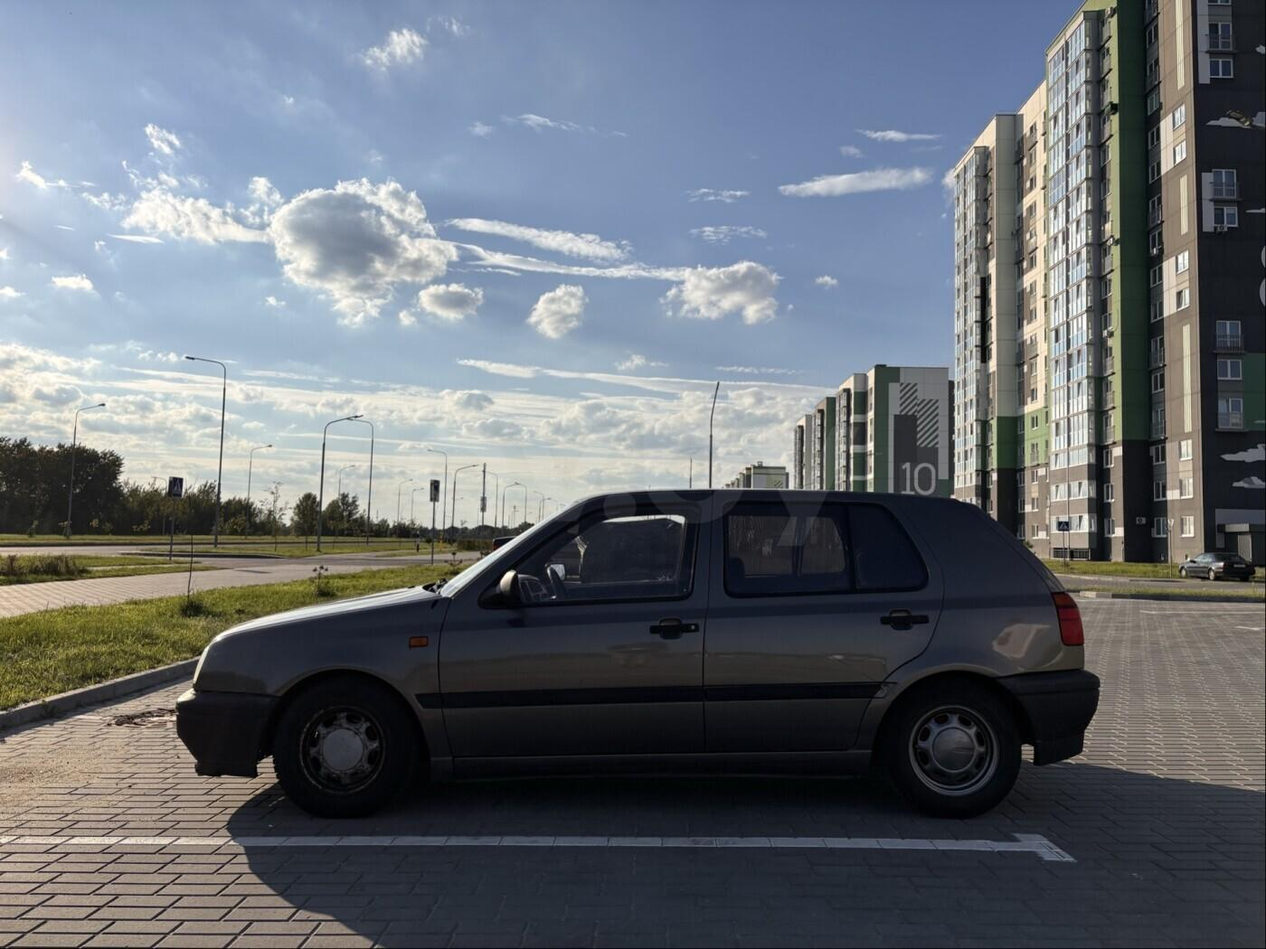Golf_1991-2000: (170, 478, 1112, 824)
